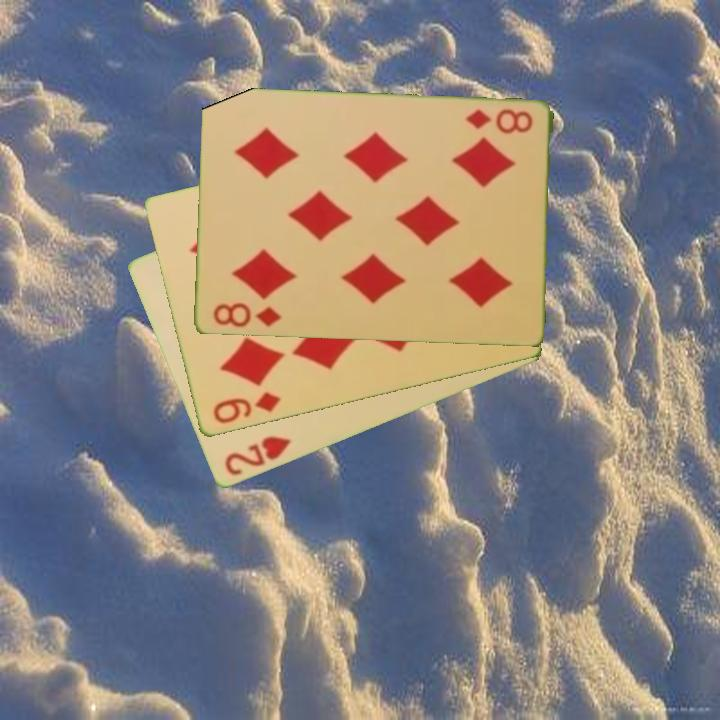2h: (220, 433, 294, 479)
8d: (461, 105, 535, 137), (209, 299, 284, 330)
9d: (209, 389, 283, 427)
